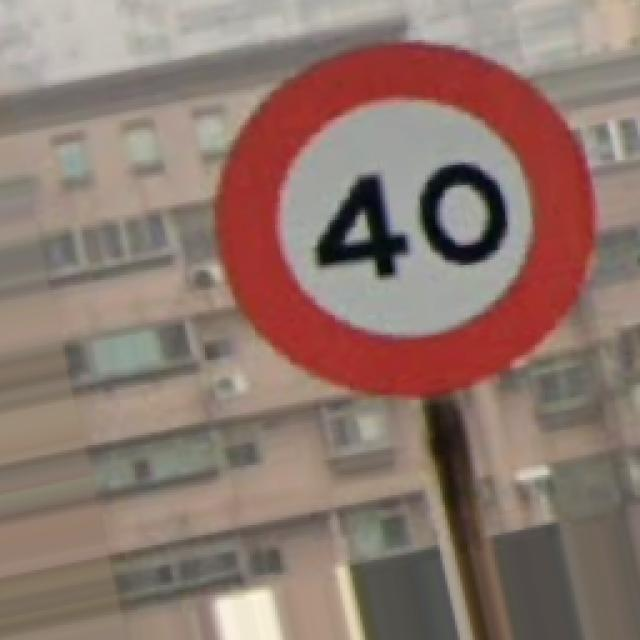Speed Limit -40-: (218, 42, 592, 395)
